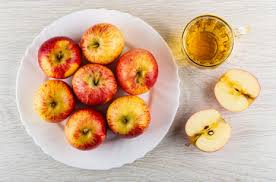apple: (105, 94, 154, 136), (74, 65, 121, 108), (120, 45, 160, 94), (69, 110, 111, 154), (83, 20, 124, 63), (33, 79, 74, 121), (39, 39, 81, 74)
damaged_apple: (212, 68, 264, 112), (185, 109, 232, 154)
